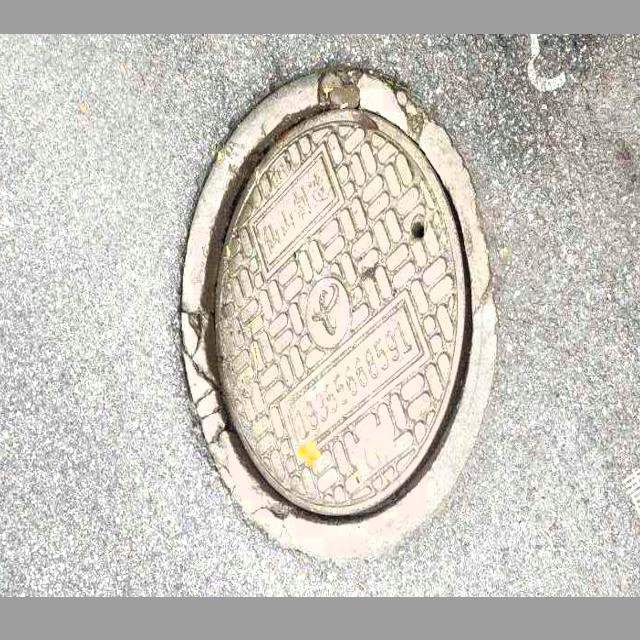circle: (123, 56, 523, 575)
